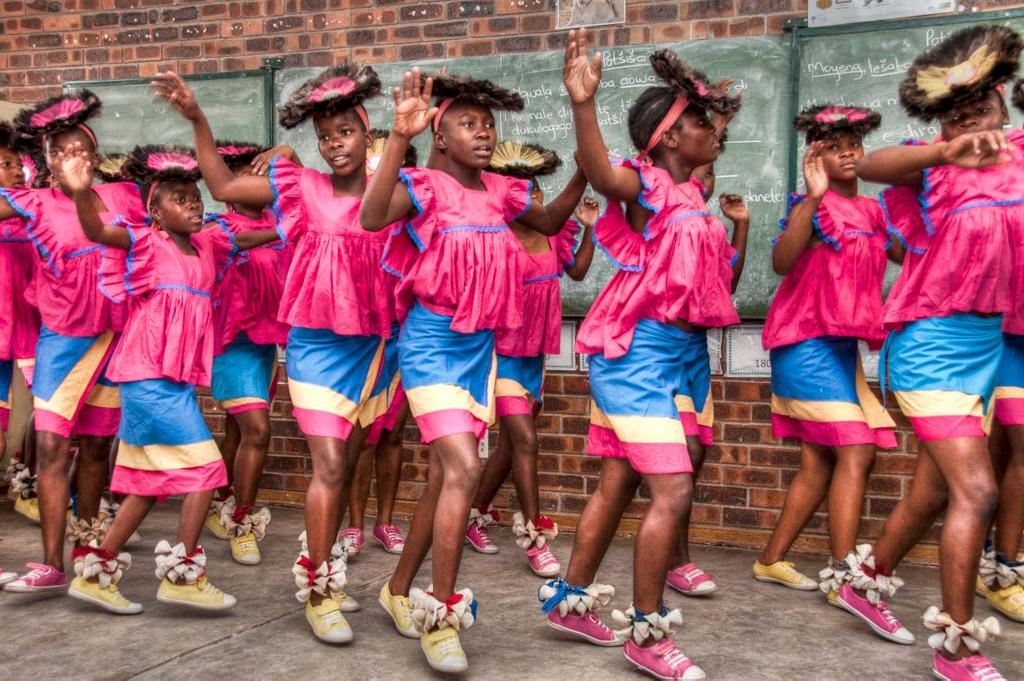face: (942, 80, 1001, 149), (442, 103, 495, 168), (315, 114, 364, 174), (158, 174, 204, 231), (48, 130, 92, 187), (677, 104, 720, 162), (818, 126, 864, 179), (511, 175, 543, 223), (0, 146, 24, 198)
